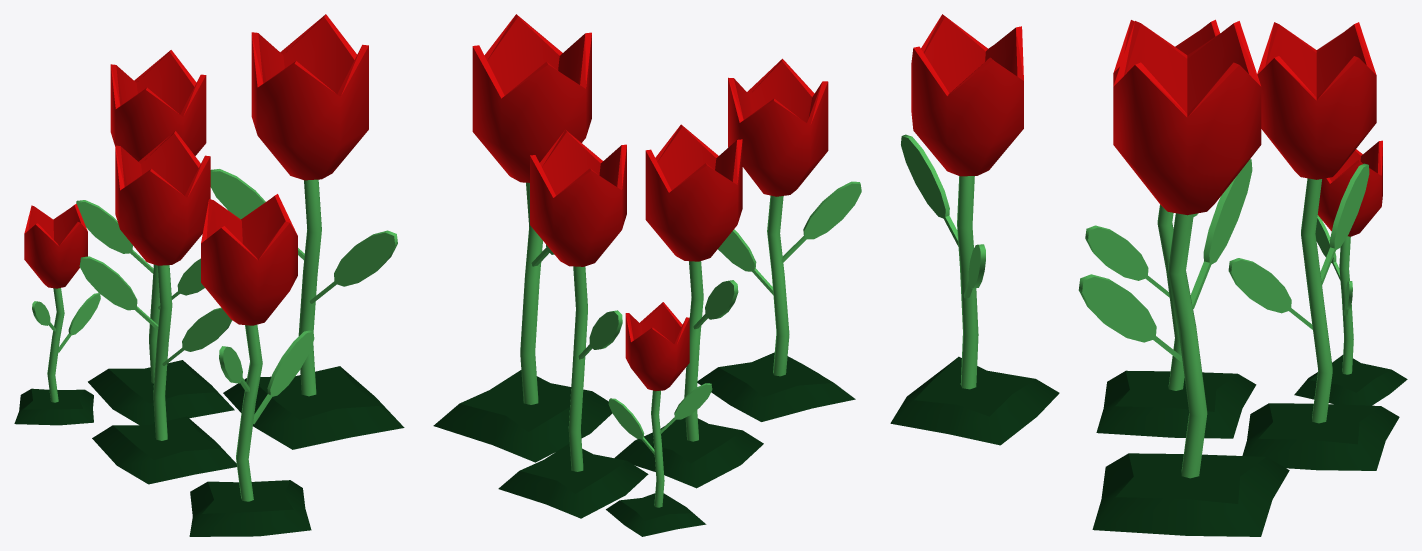
Rendered from Flower1_Model.FBX.
3 renders of one model, left to right at view 1: azimuth 30°, elevation 25°; view 2: azimuth 150°, elevation 25°; view 3: azimuth 270°, elevation 25°, orthographic. The views are drawn at different scales.
Parts seen in each view (by area): view 1: Flower1_Model; view 2: Flower1_Model; view 3: Flower1_Model.
Boxes of the visible parts, bbox=[...] form: Flower1_Model: bbox=[14, 14, 404, 536]; Flower1_Model: bbox=[433, 14, 861, 536]; Flower1_Model: bbox=[890, 14, 1407, 536].
Size of the model in its own units: 21.42 by 25.46 by 26.28.
